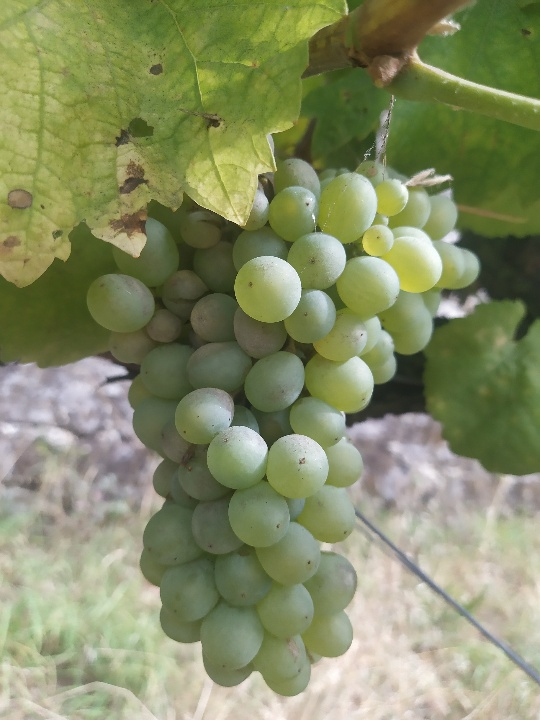grape: (86, 157, 484, 701)
